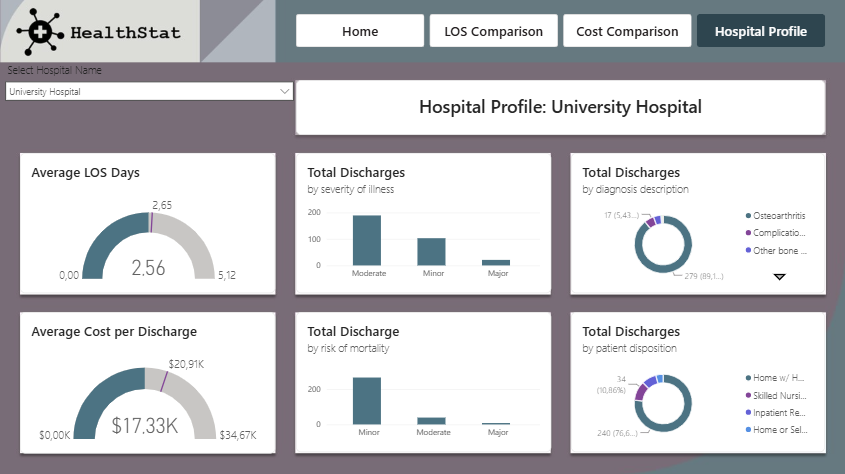

This screenshot's page, from the dashboard's own definition file:
{"tool":"powerbi","page":{"name":"Hospital Profile","canvas":[1920,1080],"ordinal":3},"visuals":[{"type":"gauge","title":"Average LOS Days","fields":{"TargetValue":["_Measures.Average LOS Days ALL"],"Y":["_Measures.Average LOS Days"]},"box":[350,410,386,212],"z":0},{"type":"gauge","title":"Average Cost per Discharge","fields":{"TargetValue":["_Measures.Average Cost per Discharge ALL"],"Y":["_Measures.Average Cost per Discharge"]},"box":[350,650,386,214],"z":1000},{"type":"clusteredColumnChart","title":"Total Discharges","fields":{"Category":["hospital_discharges.apr_severity_of_illness_description"],"Y":["_Measures.Total Discharges"]},"box":[768,410,386,212],"z":2000},{"type":"clusteredColumnChart","title":"Total Discharge","fields":{"Category":["hospital_discharges.apr_risk_of_mortality"],"Y":["_Measures.Total Discharges"]},"box":[768,650,386,212],"z":3000},{"type":"donutChart","title":"Total Discharges","fields":{"Category":["hospital_discharges.ccs_diagnosis_description"],"Y":["_Measures.Total Discharges"]},"box":[1184,410,384,212],"z":4000},{"type":"donutChart","title":"Total Discharges","fields":{"Category":["hospital_discharges.patient_disposition"],"Y":["_Measures.Total Discharges"]},"box":[1184,650,384,212],"z":5000},{"type":"slicer","title":"Select Hospital Name","fields":{"Values":["hospital_discharges.facility_name"]},"box":[322.9,274.3,445.7,135.7],"z":6000},{"type":"card","fields":{"Values":["_Measures.Title Selected Facility"]},"box":[768.6,300,800,82.9],"z":7000},{"type":"pageNavigator","box":[768.6,200,800,50],"z":8000}]}

Visuals, with their boxes in screenshot pixels (x1, y1, x2, y2), scaled from the page's 1920x1080 canvas onto the 845x474 screenshot:
"Average LOS Days" gauge: <box>154,180,324,273</box>
"Average Cost per Discharge" gauge: <box>154,285,324,379</box>
"Total Discharges" clusteredColumnChart: <box>338,180,508,273</box>
"Total Discharge" clusteredColumnChart: <box>338,285,508,378</box>
"Total Discharges" donutChart: <box>521,180,690,273</box>
"Total Discharges" donutChart: <box>521,285,690,378</box>
"Select Hospital Name" slicer: <box>142,120,338,180</box>
card - _Measures.Title Selected Facility: <box>338,132,690,168</box>
pageNavigator: <box>338,88,690,110</box>
